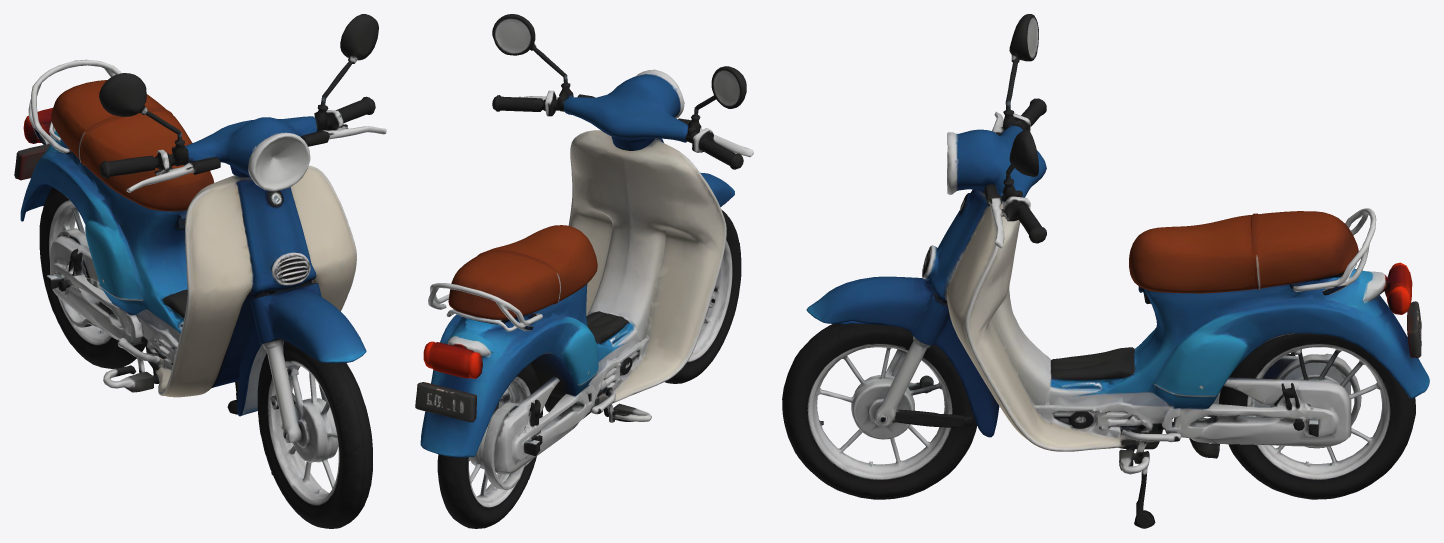
The model's file is japanese_moped.glb.
The picture shows the model from 3 angles, left to right: view 1: azimuth 30°, elevation 25°; view 2: azimuth 150°, elevation 25°; view 3: azimuth 270°, elevation 25°; orthographic projection. The views are drawn at different scales.
Visible parts, largest first — view 1: tripo_node_54bf4a7f-0918-4ff7-b7dc-3808e3271015; view 2: tripo_node_54bf4a7f-0918-4ff7-b7dc-3808e3271015; view 3: tripo_node_54bf4a7f-0918-4ff7-b7dc-3808e3271015.
Part boxes in pixels (box(x1,y1,x2,y2)): tripo_node_54bf4a7f-0918-4ff7-b7dc-3808e3271015: box(14, 14, 386, 528); tripo_node_54bf4a7f-0918-4ff7-b7dc-3808e3271015: box(415, 14, 753, 528); tripo_node_54bf4a7f-0918-4ff7-b7dc-3808e3271015: box(782, 14, 1429, 528).
Bounding box in the file's own units: 0.4954 × 0.7226 × 1.
Materials: 1 (1 with a texture image).
